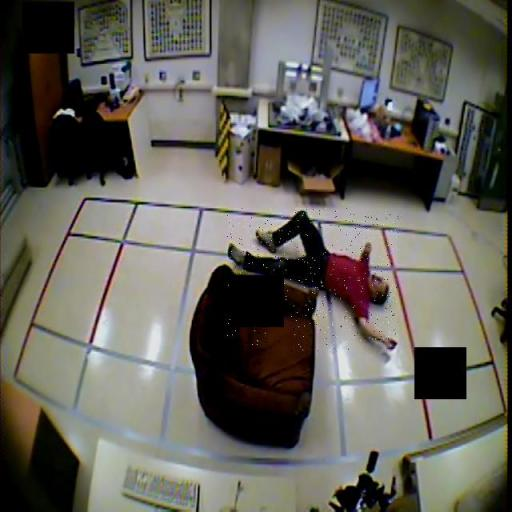Fall: (228, 208, 399, 351)
